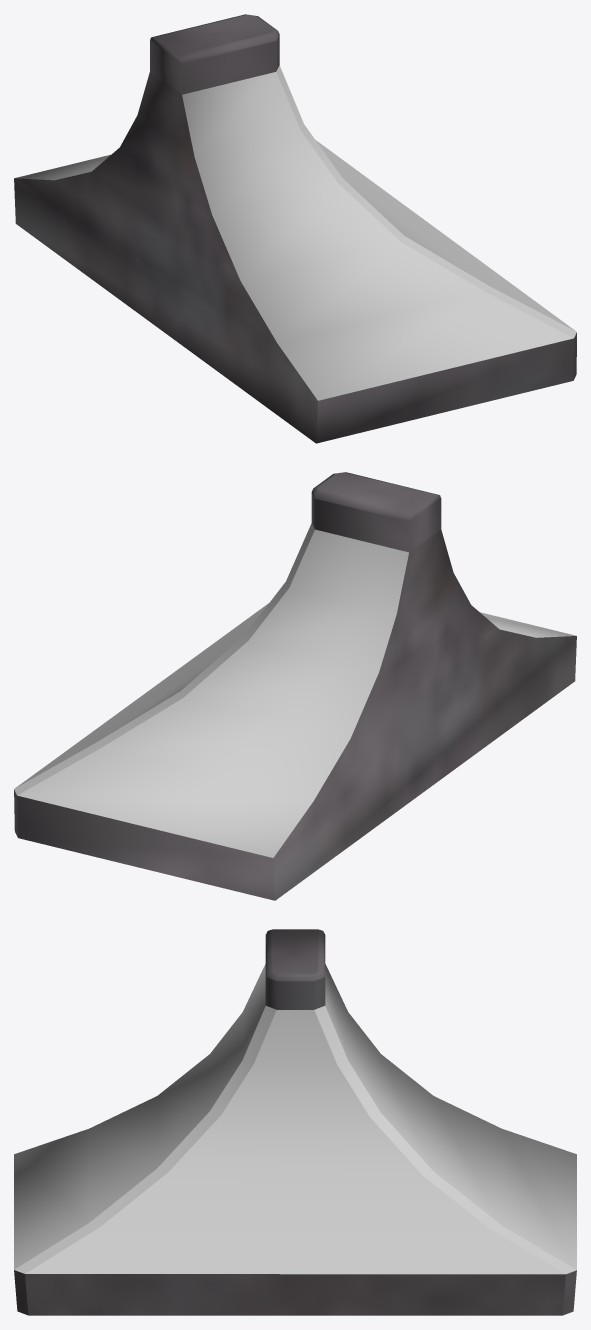
Rendered from SP_Entrance01_Roof03.fbx.
3 views of the same model, one above another, from view 1: azimuth 30°, elevation 25°; view 2: azimuth 150°, elevation 25°; view 3: azimuth 270°, elevation 25° (orthographic). The views are drawn at different scales.
Parts seen in each view (by area): view 1: SP_Entrance01_ Roof03; view 2: SP_Entrance01_ Roof03; view 3: SP_Entrance01_ Roof03.
Boxes of the visible parts, x1,y1,x2,y2 form: SP_Entrance01_ Roof03: (14, 14, 576, 443); SP_Entrance01_ Roof03: (14, 472, 576, 900); SP_Entrance01_ Roof03: (14, 929, 576, 1315).
Bounding box in the file's own units: 4.17 × 4.29 × 8.23.
